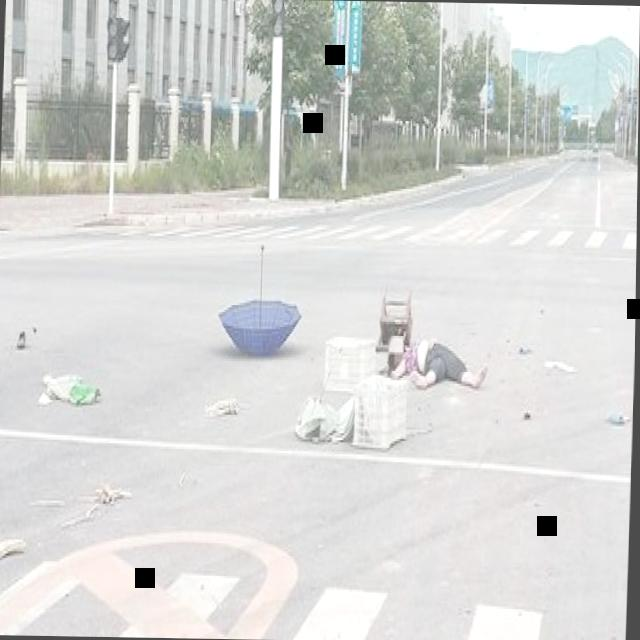Fall-Detected: (379, 306, 499, 409)
